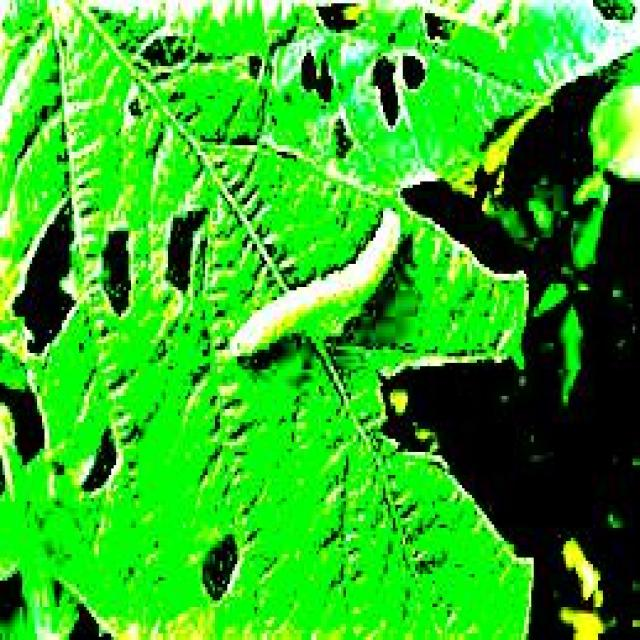Armyworm: (213, 207, 422, 375)
Armyworm_damage: (1, 185, 101, 354), (175, 501, 257, 626), (76, 392, 139, 537), (1, 343, 52, 478), (152, 194, 212, 300), (96, 207, 139, 318), (352, 56, 410, 135), (412, 1, 467, 66), (302, 40, 349, 116), (389, 44, 438, 107), (308, 1, 372, 47), (321, 119, 361, 168)
